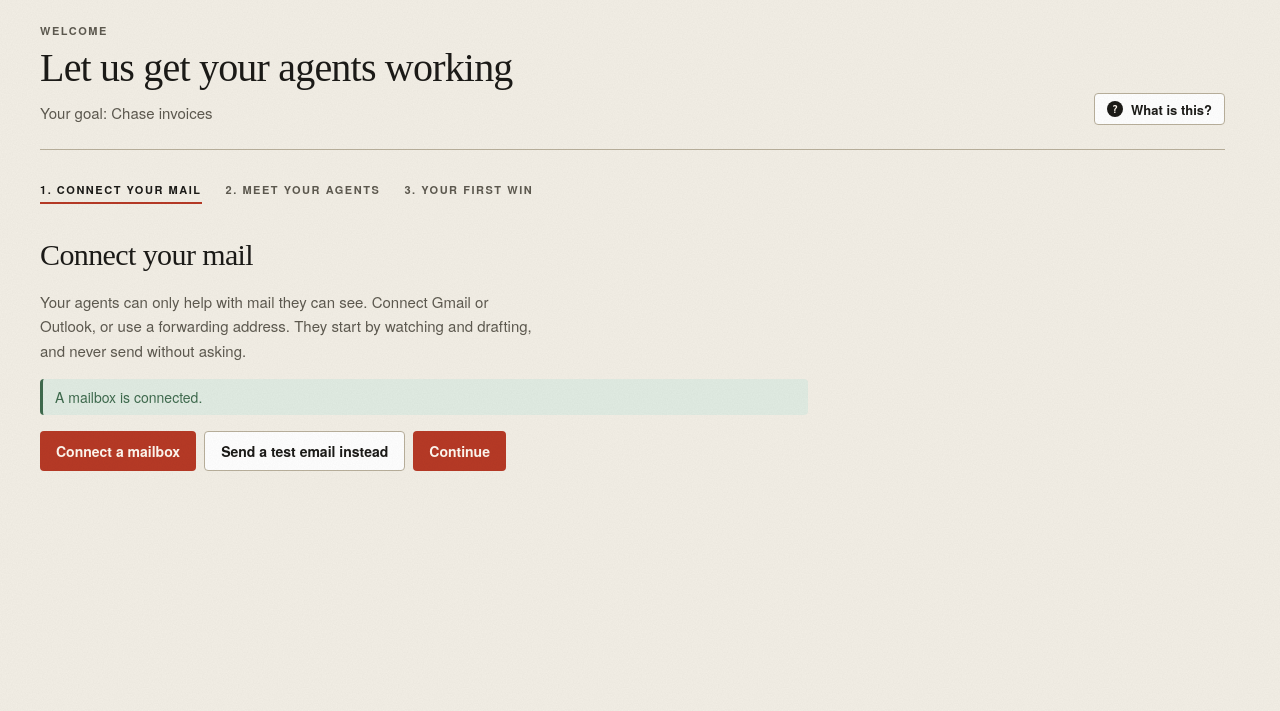
Test case: WelcomePage › connects mail, introduces the agents with avatars and ends on a first win
Expected: the text "Your goal: Chase invoices" is shown, [40,102,212,123]
Expected: the list item "1. Connect your mail" is shown, [40,182,202,204]
What coordinates should you click on to do the following:
click the button "Continue"
I would click on:
 (460, 451)
Its box is [413,431,506,471].
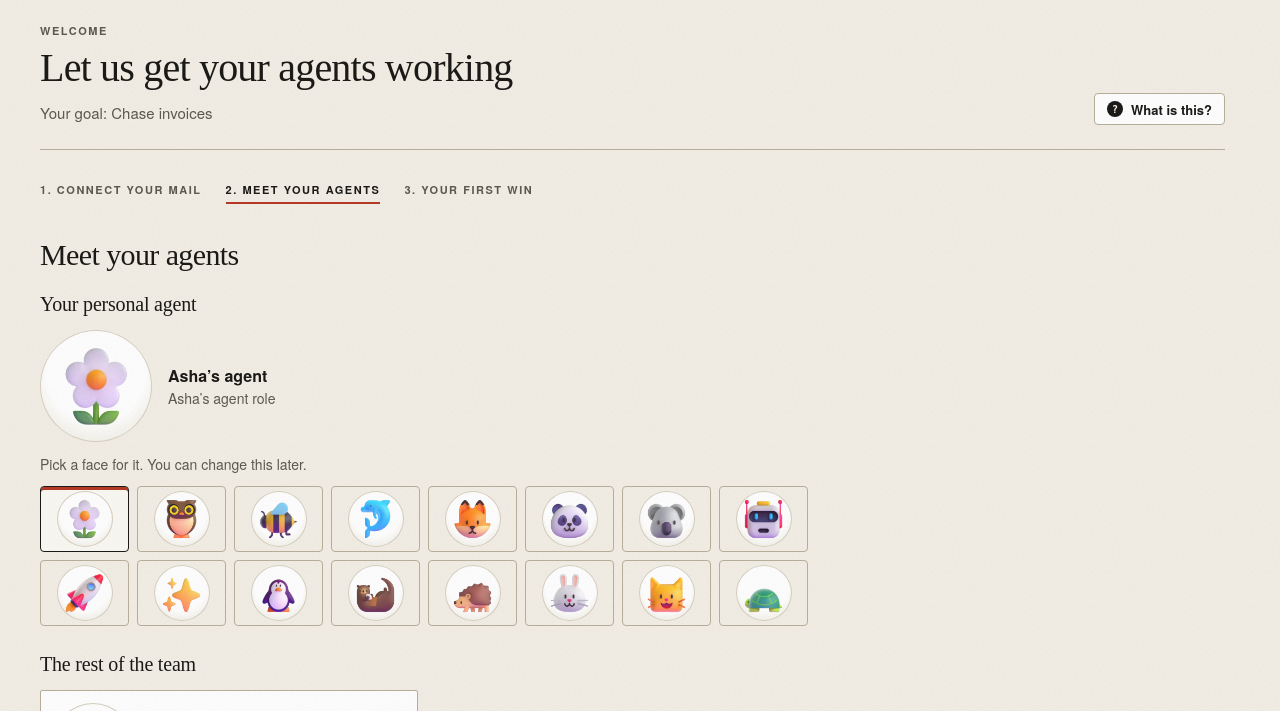
Expected: the radio button named "Panda" is shown, [525,486,614,552]
What coordinates should you click on to do the following:
click the radio button named "Owl"
I would click on:
 (182, 519)
Its box is [137,486,226,552].
(page scrolled)
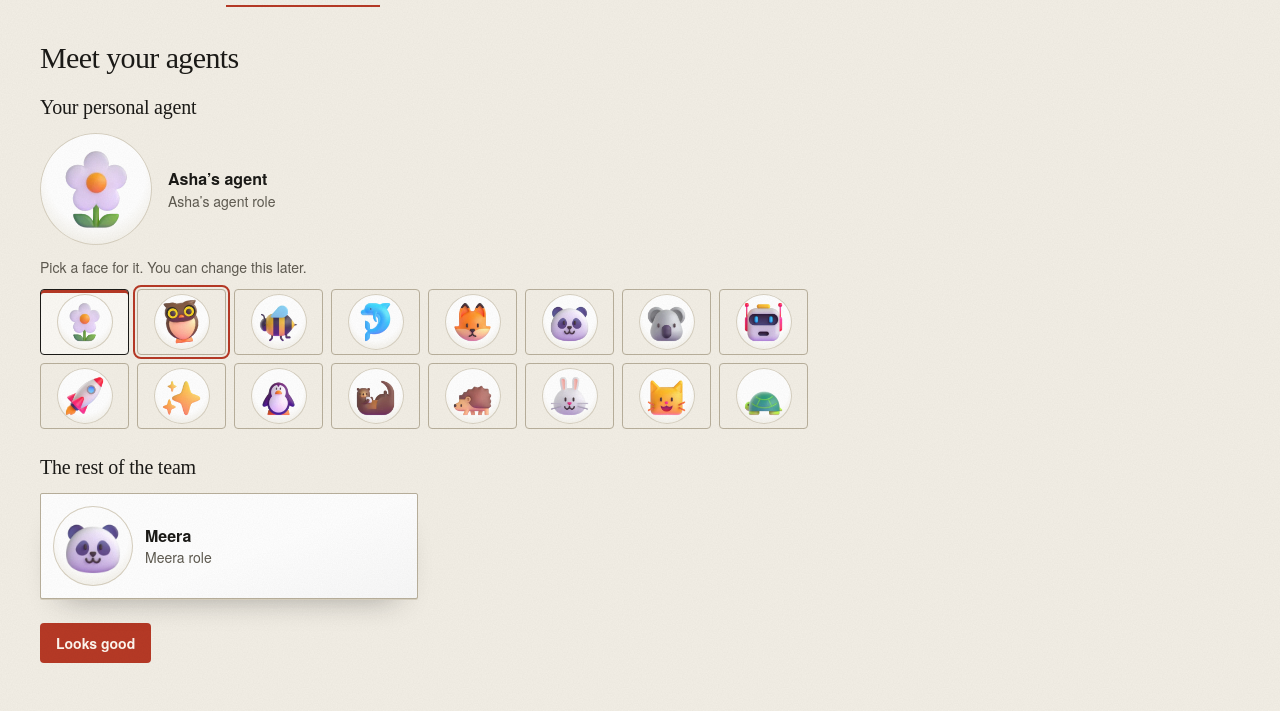
What coordinates should you click on to do the following:
click the button "Looks good"
I would click on:
 (96, 643)
Its box is [40,623,151,663].
(page scrolled)
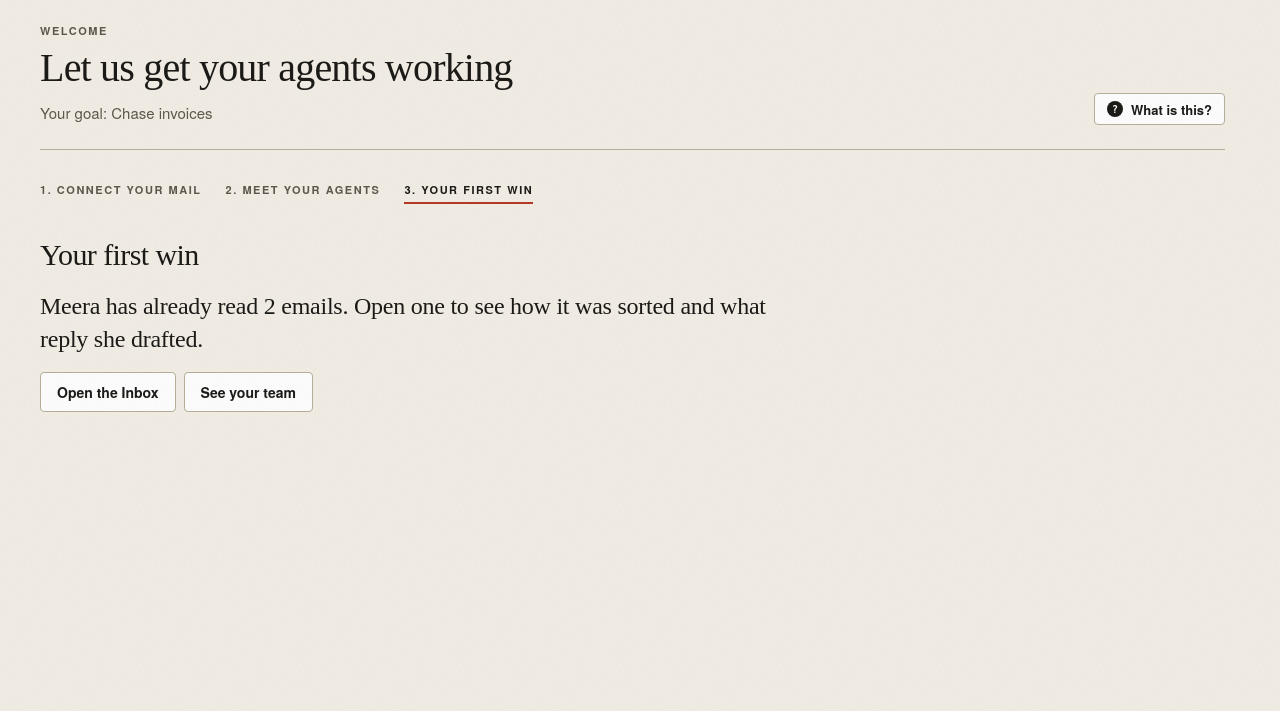
Expected: the text "Meera has already read 2 emails" is shown, [40,290,808,356]
